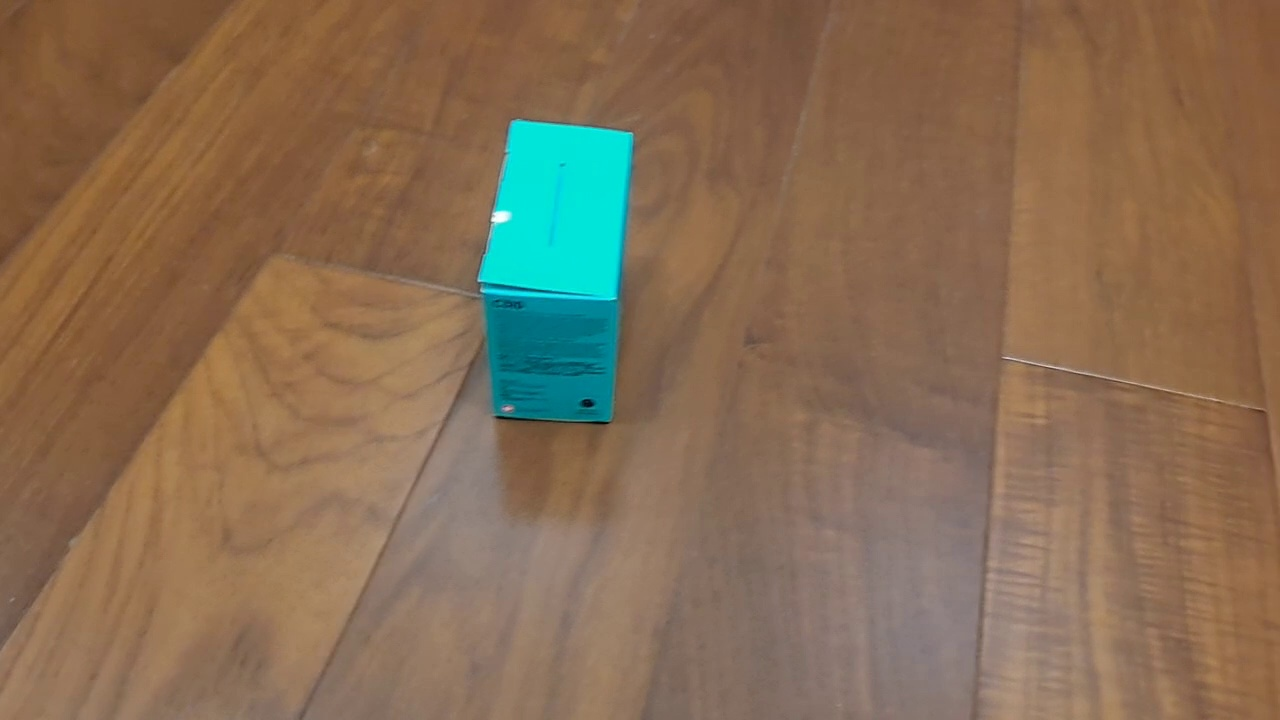webcam: (475, 117, 636, 425)
